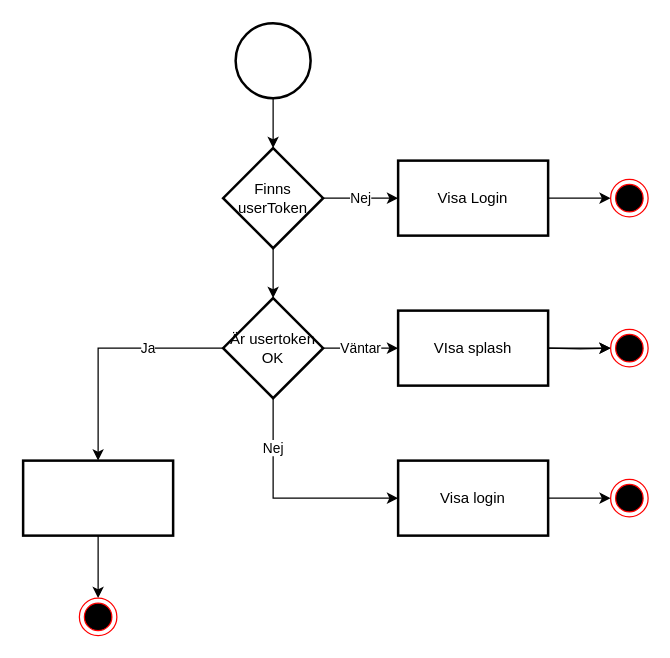
This 670x658 diagram has some shape labels left out. The shapes that lost their labels are listed below. From the top down, each one's centre as x and y in pixels, then its label:
At [272,60]: "App".
At [97,497]: "Visa App".
